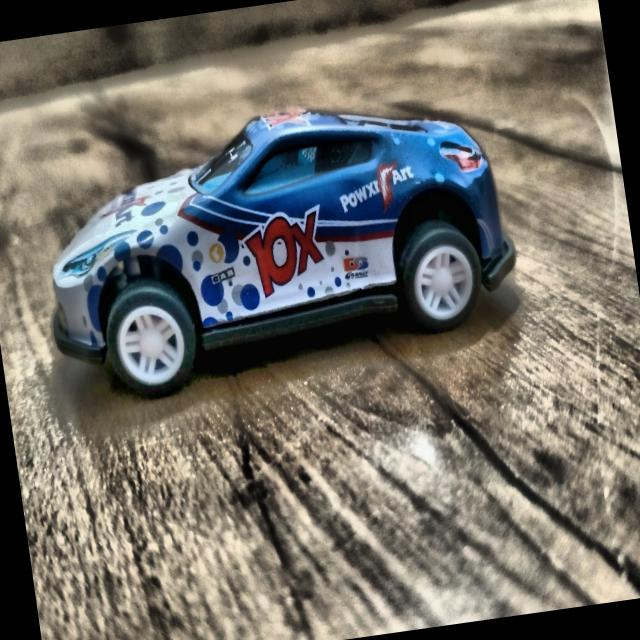Car: (12, 77, 546, 440)
